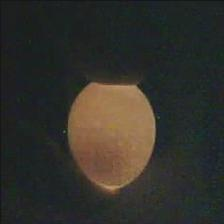infertile: (65, 76, 157, 190)
